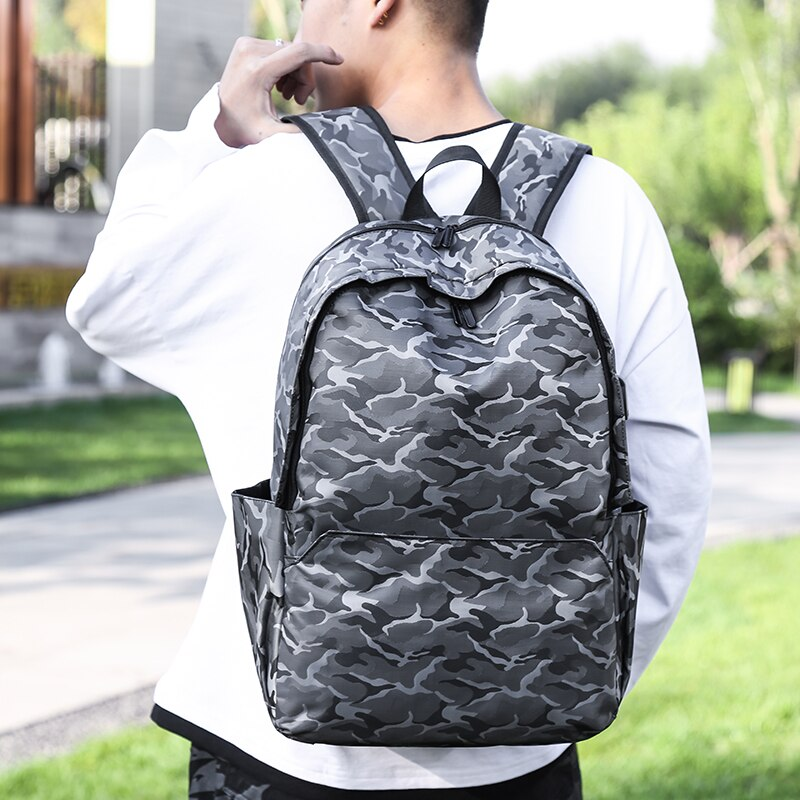Men's Backpacks: (229, 101, 646, 749)
Tops: (67, 85, 722, 799)
